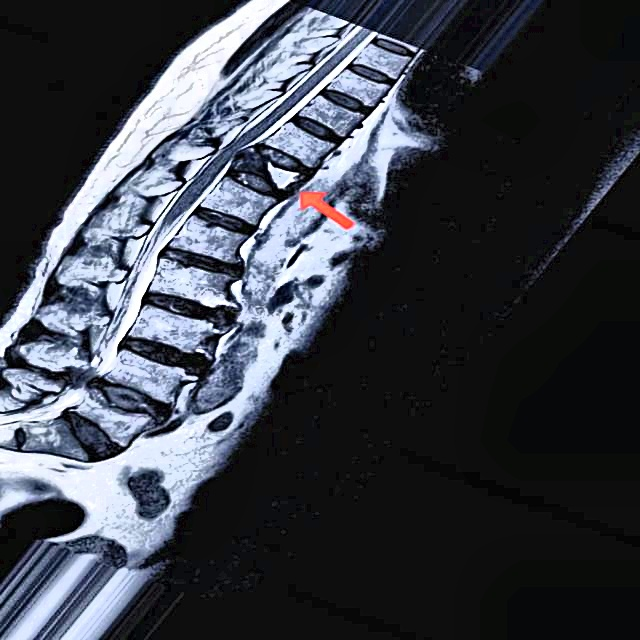Comminuted: (215, 128, 318, 206)
